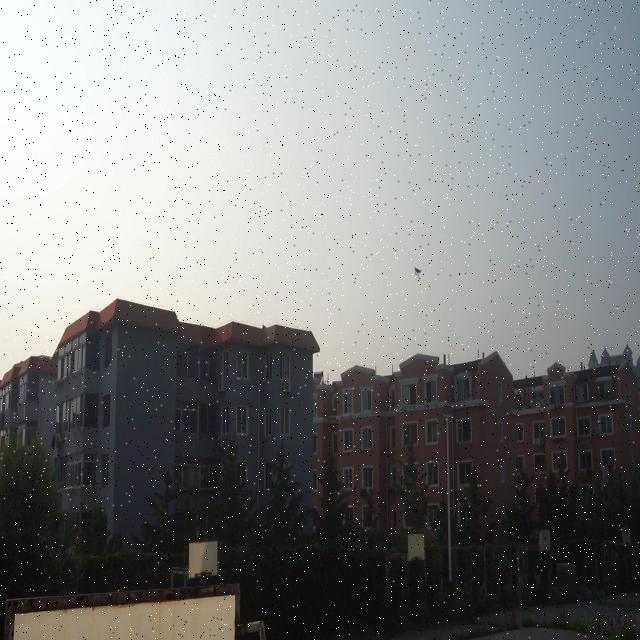UAV: (414, 266, 422, 278)
